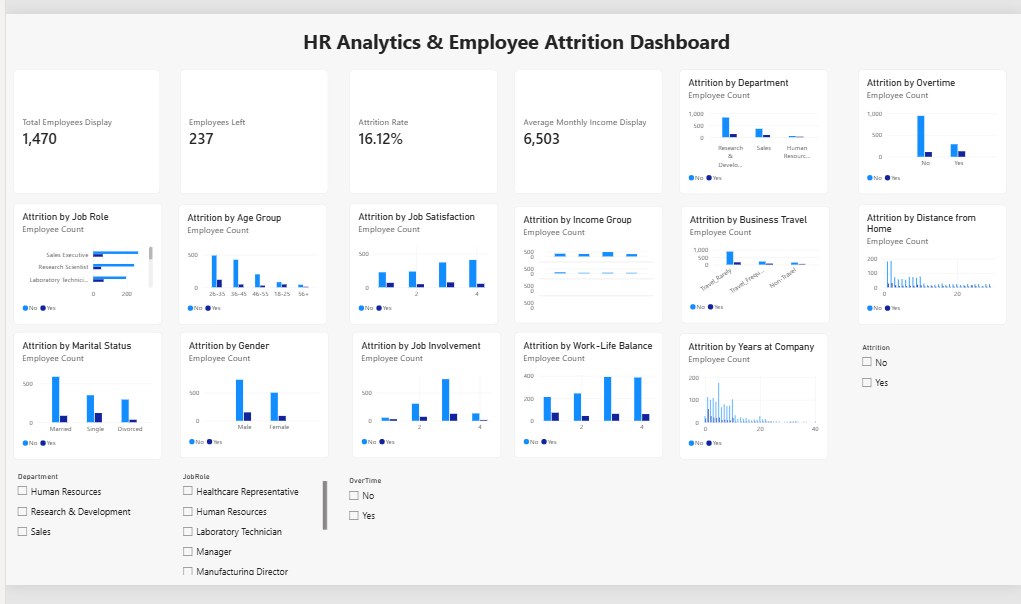

This screenshot's page, from the dashboard's own definition file:
{"tool":"powerbi","page":{"name":"Page 1","canvas":[1920,1080],"ordinal":0},"visuals":[{"type":"cardVisual","fields":{"Data":["WA_Fn-UseC_-HR-Employee-Attrition.Total Employees Display"]},"box":[14.2,104.9,277.8,235.3],"z":0},{"type":"cardVisual","fields":{"Data":["WA_Fn-UseC_-HR-Employee-Attrition.Employees Left"]},"box":[328.8,104.9,280.6,235.3],"z":1000},{"type":"cardVisual","fields":{"Data":["WA_Fn-UseC_-HR-Employee-Attrition.Attrition Rate"]},"box":[649.1,104.9,280.6,235.3],"z":2000},{"type":"clusteredColumnChart","title":"Attrition by Department","fields":{"Category":["WA_Fn-UseC_-HR-Employee-Attrition.Department"],"Series":["WA_Fn-UseC_-HR-Employee-Attrition.Attrition"],"Y":["CountNonNull(WA_Fn-UseC_-HR-Employee-Attrition.EmployeeNumber)"]},"box":[1272.8,104.9,280.6,235.3],"z":3000},{"type":"clusteredColumnChart","title":"Attrition by Overtime","fields":{"Category":["WA_Fn-UseC_-HR-Employee-Attrition.OverTime"],"Series":["WA_Fn-UseC_-HR-Employee-Attrition.Attrition"],"Y":["CountNonNull(WA_Fn-UseC_-HR-Employee-Attrition.EmployeeNumber)"]},"box":[1610.1,104.9,280.6,235.3],"z":4000},{"type":"clusteredBarChart","title":"Attrition by Job Role","fields":{"Category":["WA_Fn-UseC_-HR-Employee-Attrition.JobRole"],"Series":["WA_Fn-UseC_-HR-Employee-Attrition.Attrition"],"Y":["CountNonNull(WA_Fn-UseC_-HR-Employee-Attrition.EmployeeNumber)"]},"box":[14.2,357.2,280.6,229.6],"z":5000},{"type":"clusteredColumnChart","title":"Attrition by Age Group","fields":{"Category":["WA_Fn-UseC_-HR-Employee-Attrition.AgeGroup"],"Series":["WA_Fn-UseC_-HR-Employee-Attrition.Attrition"],"Y":["CountNonNull(WA_Fn-UseC_-HR-Employee-Attrition.EmployeeNumber)"]},"box":[326,360,280.6,226.8],"z":6000},{"type":"clusteredColumnChart","title":"Attrition by Job Satisfaction","fields":{"Category":["WA_Fn-UseC_-HR-Employee-Attrition.JobSatisfaction"],"Series":["WA_Fn-UseC_-HR-Employee-Attrition.Attrition"],"Y":["CountNonNull(WA_Fn-UseC_-HR-Employee-Attrition.EmployeeNumber)"]},"box":[649.1,357.2,280.6,229.6],"z":7000},{"type":"clusteredColumnChart","title":"Attrition by Income Group","fields":{"Category":["WA_Fn-UseC_-HR-Employee-Attrition.IncomeGroup"],"Rows":["WA_Fn-UseC_-HR-Employee-Attrition.Attrition"],"Y":["CountNonNull(WA_Fn-UseC_-HR-Employee-Attrition.EmployeeNumber)"]},"box":[961,362.8,280.6,221.1],"z":8000},{"type":"clusteredColumnChart","title":"Attrition by Business Travel","fields":{"Category":["WA_Fn-UseC_-HR-Employee-Attrition.BusinessTravel"],"Series":["WA_Fn-UseC_-HR-Employee-Attrition.Attrition"],"Y":["CountNonNull(WA_Fn-UseC_-HR-Employee-Attrition.EmployeeNumber)"]},"box":[1275.6,362.8,280.6,221.1],"z":9000},{"type":"clusteredColumnChart","title":"Attrition by Distance from Home","fields":{"Category":["WA_Fn-UseC_-HR-Employee-Attrition.DistanceFromHome"],"Series":["WA_Fn-UseC_-HR-Employee-Attrition.Attrition"],"Y":["CountNonNull(WA_Fn-UseC_-HR-Employee-Attrition.EmployeeNumber)"]},"box":[1610.1,360,280.6,226.8],"z":10000},{"type":"clusteredColumnChart","title":"Attrition by Marital Status","fields":{"Category":["WA_Fn-UseC_-HR-Employee-Attrition.MaritalStatus"],"Series":["WA_Fn-UseC_-HR-Employee-Attrition.Attrition"],"Y":["CountNonNull(WA_Fn-UseC_-HR-Employee-Attrition.EmployeeNumber)"]},"box":[14.2,600.9,280.6,240.9],"z":11000},{"type":"clusteredColumnChart","title":"Attrition by Gender","fields":{"Category":["WA_Fn-UseC_-HR-Employee-Attrition.Gender"],"Series":["WA_Fn-UseC_-HR-Employee-Attrition.Attrition"],"Y":["CountNonNull(WA_Fn-UseC_-HR-Employee-Attrition.EmployeeNumber)"]},"box":[328.8,600.9,280.6,238.1],"z":12000},{"type":"clusteredColumnChart","title":"Attrition by Job Involvement","fields":{"Category":["WA_Fn-UseC_-HR-Employee-Attrition.JobInvolvement"],"Series":["WA_Fn-UseC_-HR-Employee-Attrition.Attrition"],"Y":["CountNonNull(WA_Fn-UseC_-HR-Employee-Attrition.EmployeeNumber)"]},"box":[654.8,600.9,280.6,238.1],"z":13000},{"type":"clusteredColumnChart","fields":{"Category":["WA_Fn-UseC_-HR-Employee-Attrition.WorkLifeBalance"],"Series":["WA_Fn-UseC_-HR-Employee-Attrition.Attrition"],"Y":["CountNonNull(WA_Fn-UseC_-HR-Employee-Attrition.EmployeeNumber)"]},"box":[961,603.8,280.6,238.1],"z":14000},{"type":"clusteredColumnChart","title":"Attrition by Work-Life Balance","fields":{"Category":["WA_Fn-UseC_-HR-Employee-Attrition.EnvironmentSatisfaction"],"Series":["WA_Fn-UseC_-HR-Employee-Attrition.Attrition"],"Y":["CountNonNull(WA_Fn-UseC_-HR-Employee-Attrition.EmployeeNumber)"]},"box":[1272.8,600.9,280.6,238.1],"z":15000},{"type":"clusteredColumnChart","title":"Attrition by Years at Company","fields":{"Category":["WA_Fn-UseC_-HR-Employee-Attrition.YearsAtCompany"],"Series":["WA_Fn-UseC_-HR-Employee-Attrition.Attrition"],"Y":["CountNonNull(WA_Fn-UseC_-HR-Employee-Attrition.EmployeeNumber)"]},"box":[1610.1,600.9,280.6,238.1],"z":16000},{"type":"slicer","fields":{"Values":["WA_Fn-UseC_-HR-Employee-Attrition.Attrition"]},"box":[14.2,861.7,280.6,198.4],"z":17000},{"type":"slicer","fields":{"Values":["WA_Fn-UseC_-HR-Employee-Attrition.Department"]},"box":[326,864.6,280.6,195.6],"z":18000},{"type":"slicer","fields":{"Values":["WA_Fn-UseC_-HR-Employee-Attrition.JobRole"]},"box":[654.8,864.6,280.6,195.6],"z":19000},{"type":"slicer","fields":{"Values":["WA_Fn-UseC_-HR-Employee-Attrition.OverTime"]},"box":[961,873.1,309,187.1],"z":20000},{"type":"cardVisual","fields":{"Data":["WA_Fn-UseC_-HR-Employee-Attrition.Average Monthly Income Display"]},"box":[961,104.9,280.6,235.3],"z":21000},{"type":"textbox","box":[561.3,25.5,901.4,56.7],"z":21001}]}

Visuals, with their boxes in screenshot pixels (x1, y1, x2, y2):
cardVisual - WA_Fn-UseC_-HR-Employee-Attrition.Total Employees Display: 63,87,209,210
cardVisual - WA_Fn-UseC_-HR-Employee-Attrition.Employees Left: 228,87,375,210
cardVisual - WA_Fn-UseC_-HR-Employee-Attrition.Attrition Rate: 396,87,543,210
"Attrition by Department" clusteredColumnChart: 723,87,870,210
"Attrition by Overtime" clusteredColumnChart: 900,87,1020,210
"Attrition by Job Role" clusteredBarChart: 63,219,210,340
"Attrition by Age Group" clusteredColumnChart: 227,221,374,340
"Attrition by Job Satisfaction" clusteredColumnChart: 396,219,543,340
"Attrition by Income Group" clusteredColumnChart: 560,222,707,338
"Attrition by Business Travel" clusteredColumnChart: 725,222,872,338
"Attrition by Distance from Home" clusteredColumnChart: 900,221,1020,340
"Attrition by Marital Status" clusteredColumnChart: 63,347,210,473
"Attrition by Gender" clusteredColumnChart: 228,347,375,472
"Attrition by Job Involvement" clusteredColumnChart: 399,347,546,472
clusteredColumnChart - WA_Fn-UseC_-HR-Employee-Attrition.WorkLifeBalance x WA_Fn-UseC_-HR-Employee-Attrition.Attrition: 560,349,707,473
"Attrition by Work-Life Balance" clusteredColumnChart: 723,347,870,472
"Attrition by Years at Company" clusteredColumnChart: 900,347,1020,472
slicer - WA_Fn-UseC_-HR-Employee-Attrition.Attrition: 63,484,210,588
slicer - WA_Fn-UseC_-HR-Employee-Attrition.Department: 227,485,374,588
slicer - WA_Fn-UseC_-HR-Employee-Attrition.JobRole: 399,485,546,588
slicer - WA_Fn-UseC_-HR-Employee-Attrition.OverTime: 560,490,722,588
cardVisual - WA_Fn-UseC_-HR-Employee-Attrition.Average Monthly Income Display: 560,87,707,210
textbox: 350,45,823,75
